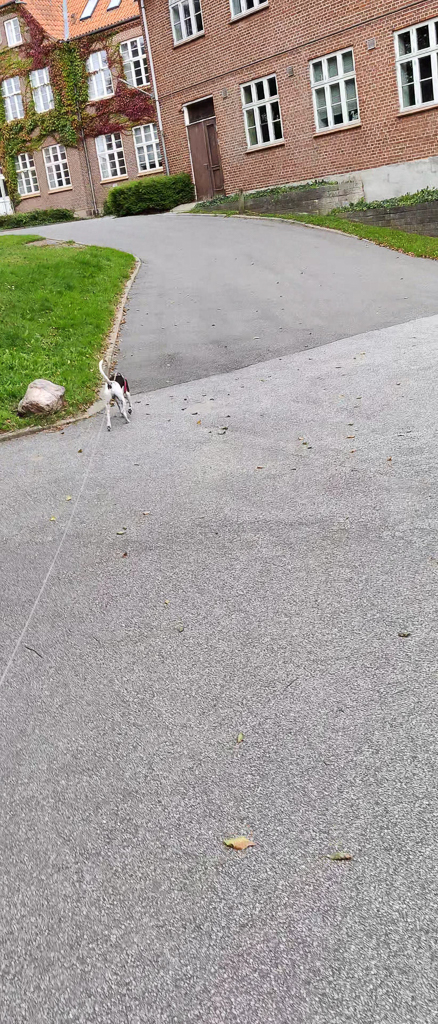Dog: (90, 354, 140, 433)
